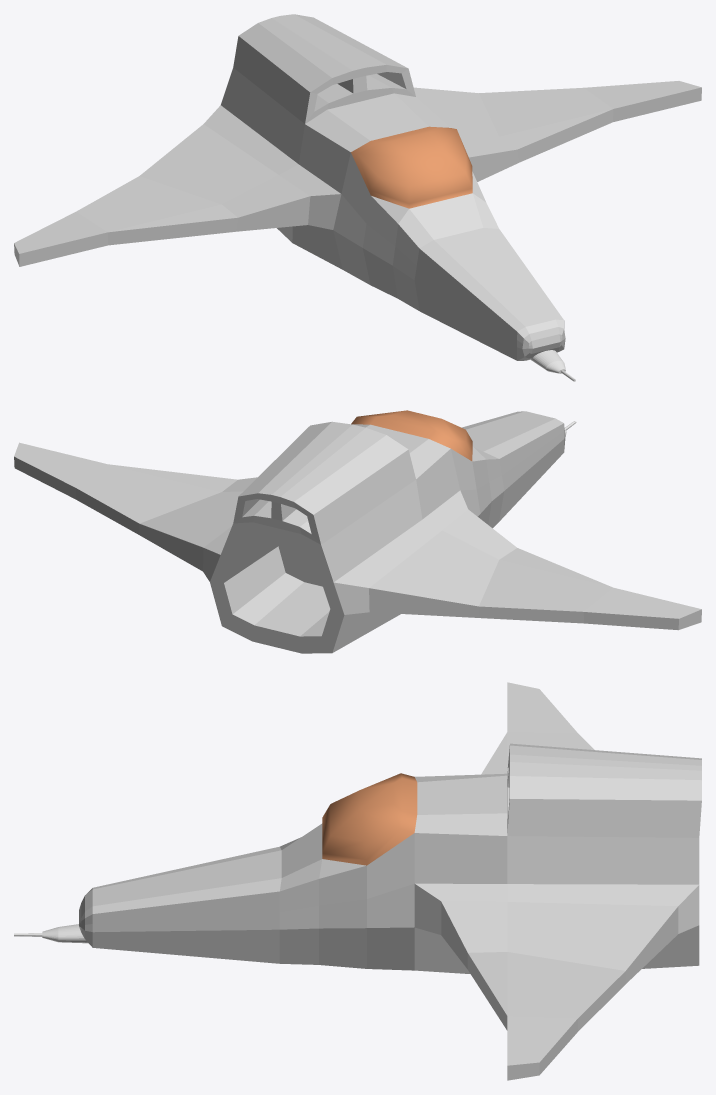
The model's file is orion.glb.
The picture shows the model from 3 angles, top to bottom: view 1: azimuth 30°, elevation 25°; view 2: azimuth 150°, elevation 25°; view 3: azimuth 270°, elevation 25°; orthographic projection. The views are drawn at different scales.
Visible parts, largest first — view 1: Spaceship4; view 2: Spaceship4; view 3: Spaceship4, Цилиндр.
Boxes of the visible parts, x1=… form: Spaceship4: x1=14, y1=14, x2=701, y2=360; Spaceship4: x1=14, y1=410, x2=701, y2=653; Spaceship4: x1=79, y1=682, x2=701, y2=1080; Цилиндр: x1=42, y1=924, x2=88, y2=943.
Size of the model in its own units: 5.44 by 1.26 by 4.13.
